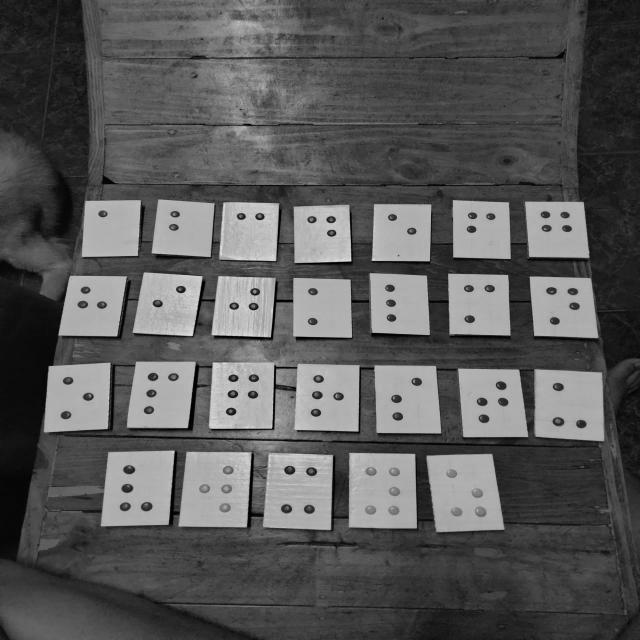braiile: (428, 456, 503, 530), (179, 453, 253, 527), (267, 454, 331, 530), (538, 370, 602, 440), (133, 273, 202, 336), (352, 457, 414, 526), (108, 453, 168, 522), (532, 277, 598, 338), (463, 372, 524, 434), (212, 276, 275, 336), (298, 367, 358, 429), (134, 364, 192, 426), (379, 368, 437, 430), (151, 200, 214, 256), (452, 200, 511, 258), (294, 280, 352, 336), (223, 203, 279, 260), (374, 205, 431, 260), (295, 206, 350, 262), (217, 366, 270, 424), (50, 368, 103, 424), (85, 202, 139, 254), (456, 276, 504, 332), (532, 202, 581, 255), (71, 278, 115, 332), (377, 280, 425, 329)
